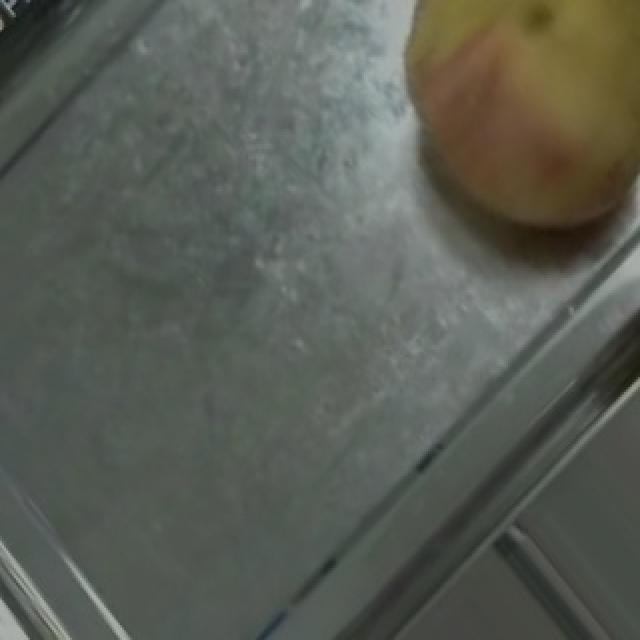Fruit: (362, 0, 640, 278)
